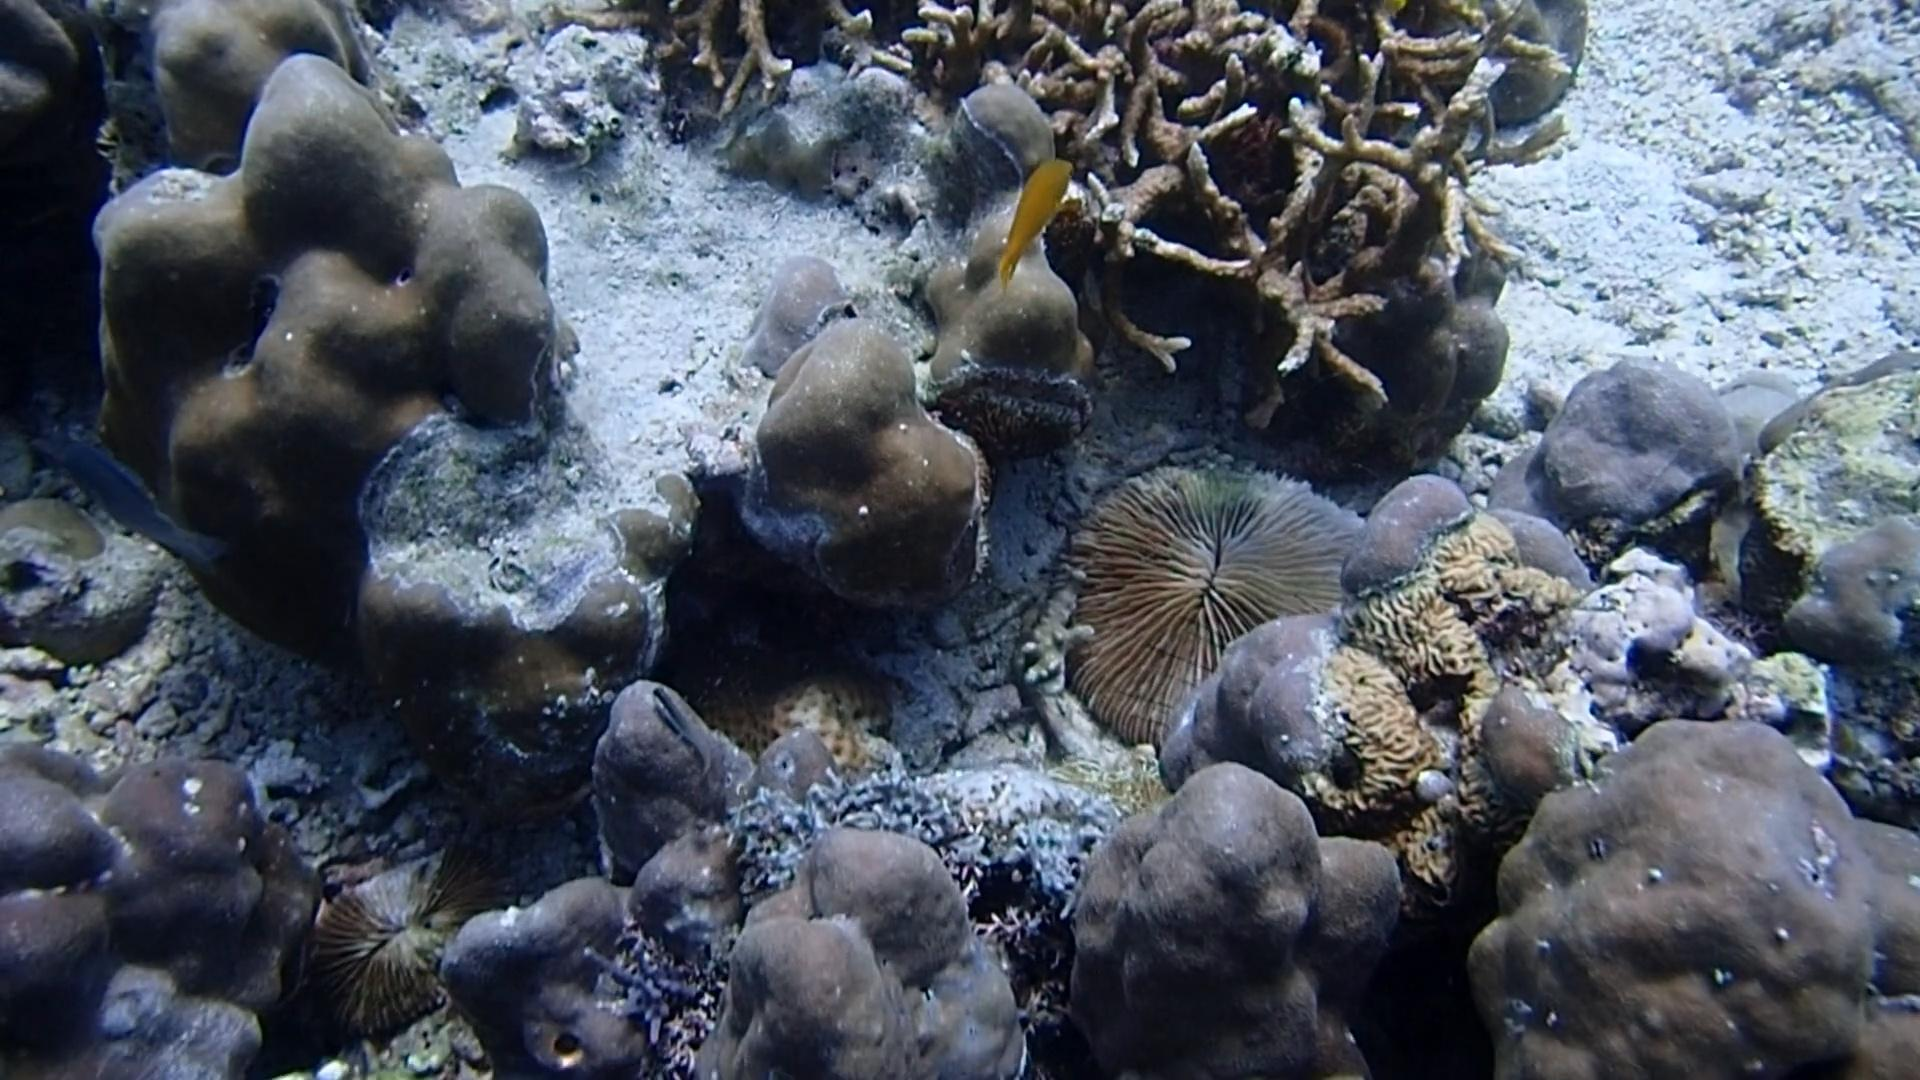Blue Fish Two: (46, 431, 224, 574)
Yellow Fish: (986, 148, 1081, 287)
